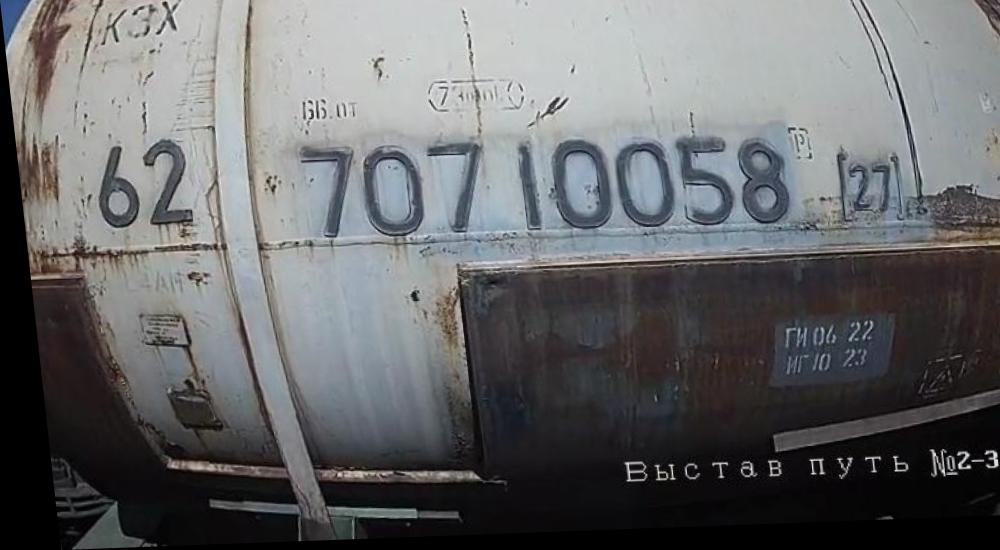Wagon-number: (291, 129, 793, 245)
